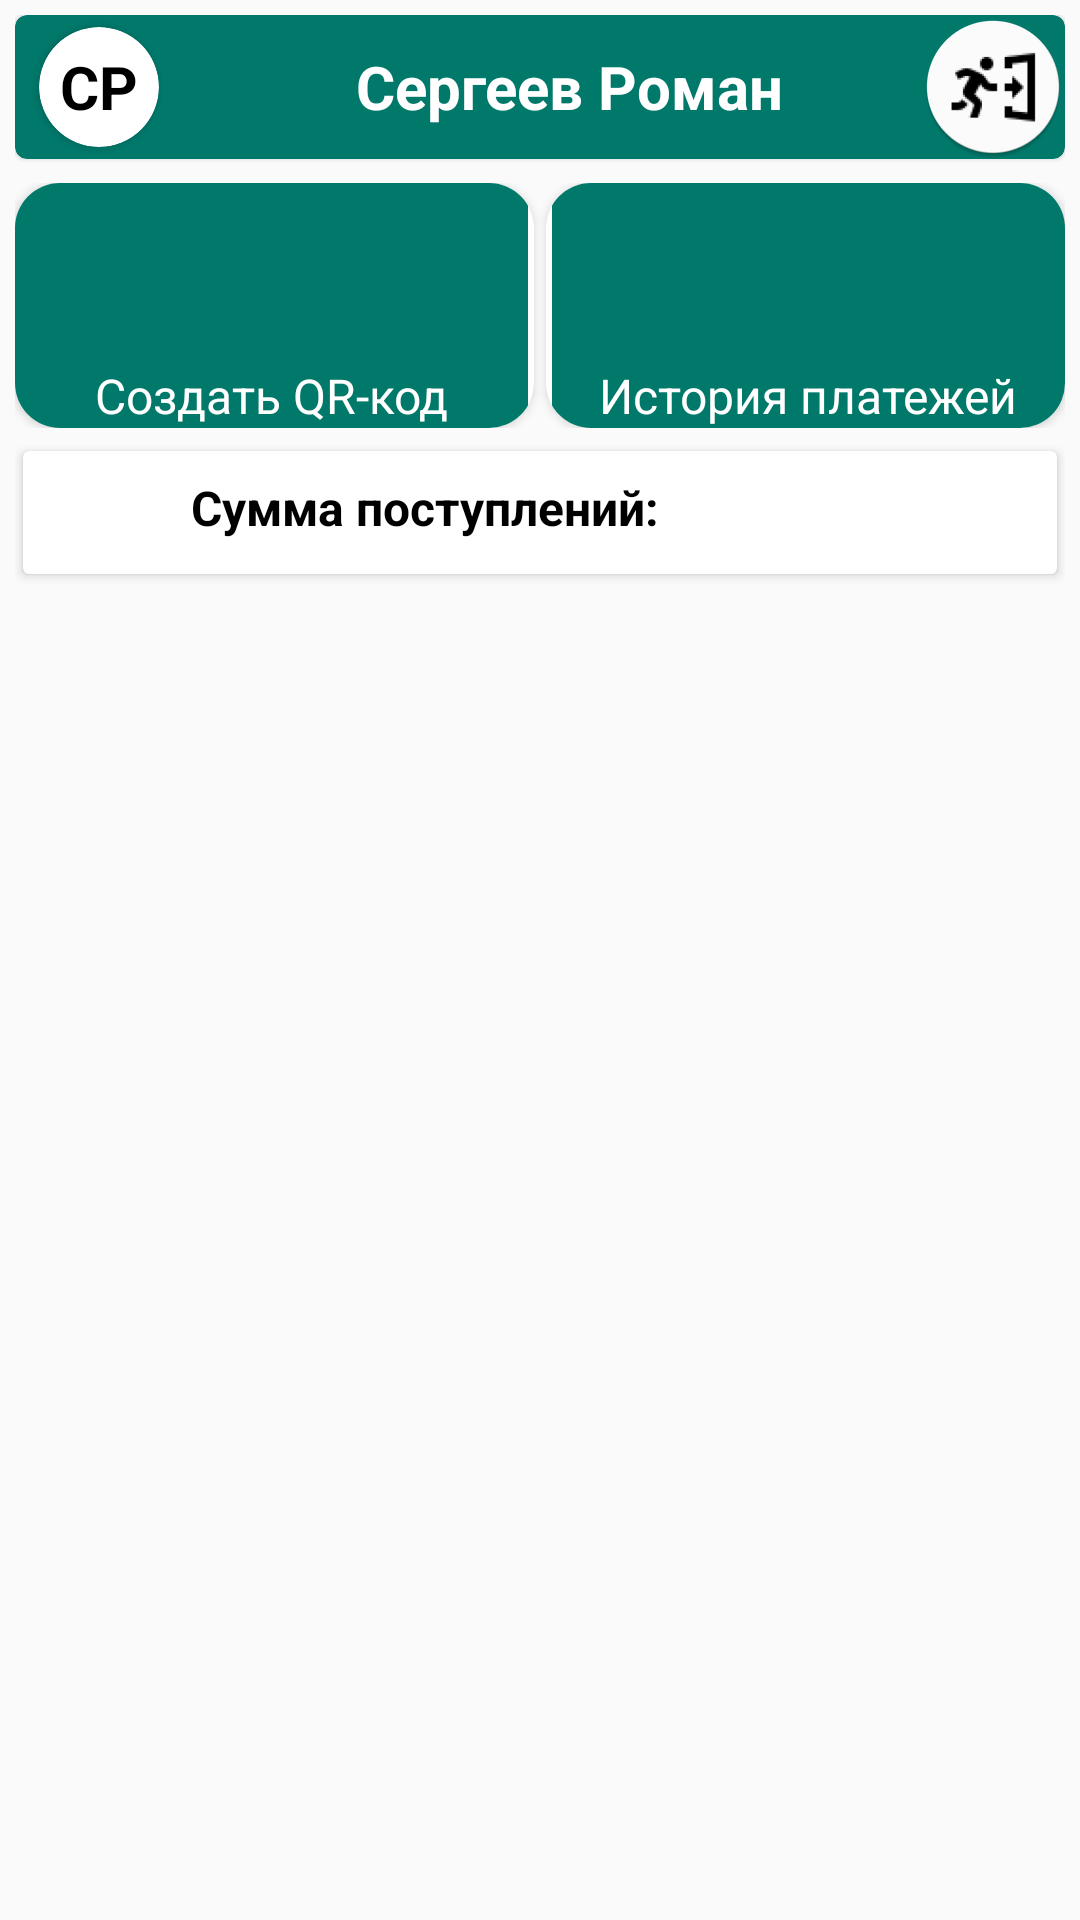

Screen size 1080px x 1920px. Icon name, then its box in pixels as (x1, y1, x2, y2):
exit: (921, 15, 1065, 159)
